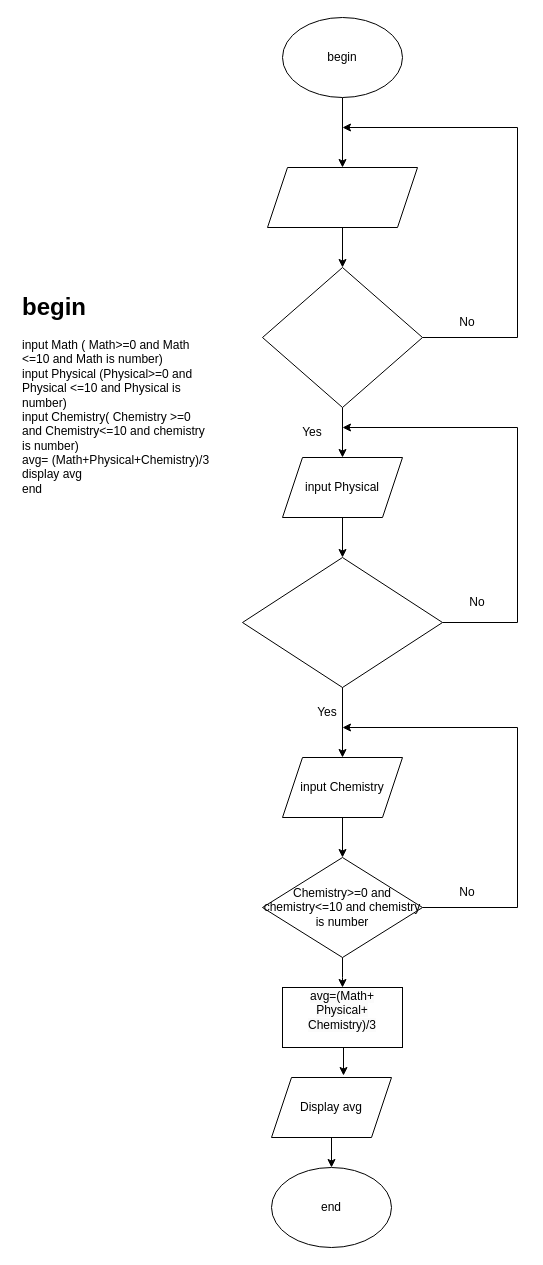
Some shapes in this 543 by 1265 pixel diagram are drawn without their labels. Each missing label, with the box of its shape:
(Math>=0 and Math <=10 and Math is numbe: (262, 266, 422, 408)
input Math: (266, 166, 418, 228)
Physical>=0 and Physical <=10 and Physical is number: (242, 556, 442, 688)
